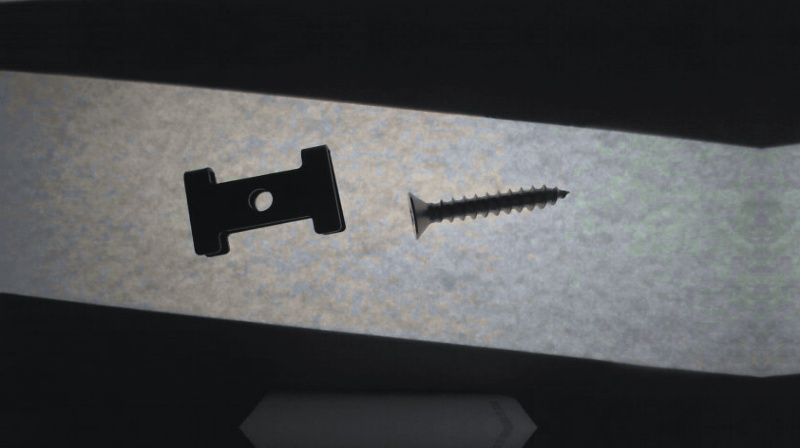O002: (183, 144, 343, 258)
S001: (403, 183, 568, 238)
